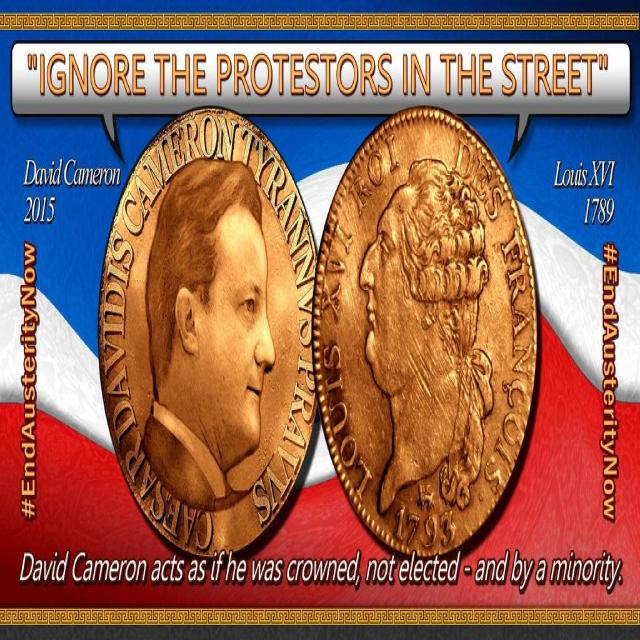Coin: (97, 108, 321, 566), (312, 112, 542, 553)
